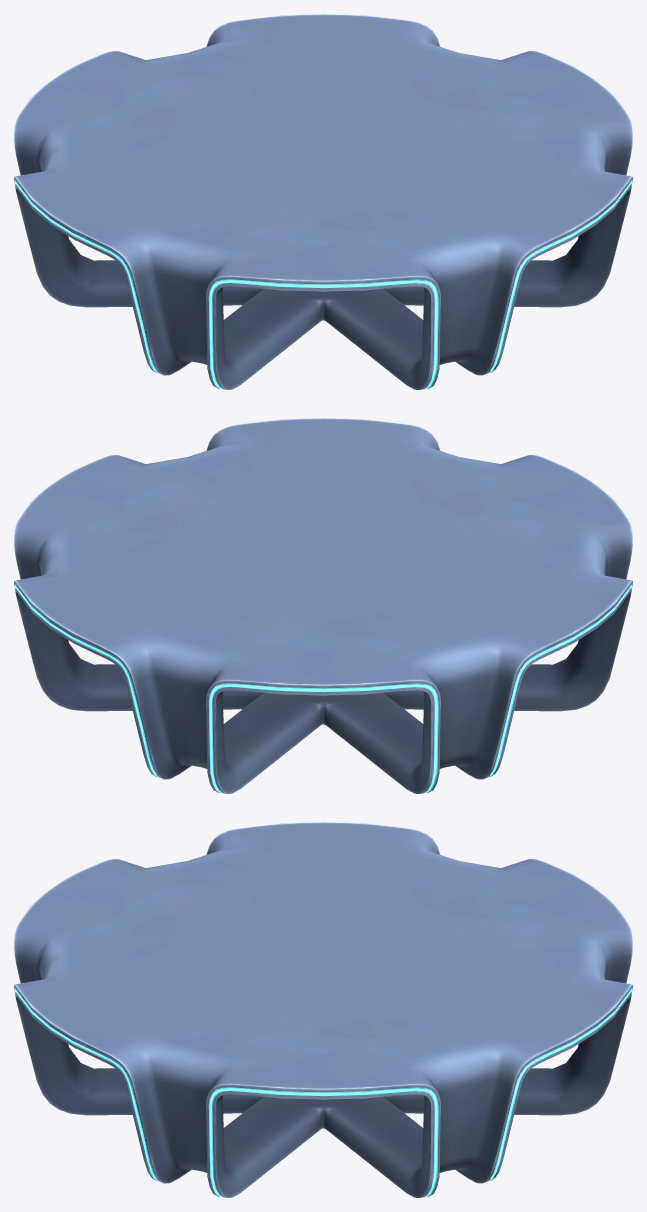
The model's file is obj_btable01.gltf.
The picture shows the model from 3 angles, top to bottom: view 1: azimuth 30°, elevation 25°; view 2: azimuth 150°, elevation 25°; view 3: azimuth 270°, elevation 25°; orthographic projection.
Parts seen in each view (by area): view 1: obj_btable01; view 2: obj_btable01; view 3: obj_btable01.
Boxes of the visible parts, left/top/right/bottom form: obj_btable01: left=14, top=14, right=632, bottom=389; obj_btable01: left=14, top=418, right=632, bottom=793; obj_btable01: left=14, top=822, right=632, bottom=1197.
Size of what is drawn, in the model's own units: 3.5 by 0.8721 by 3.42.
Materials: 1 (1 with a texture image).
